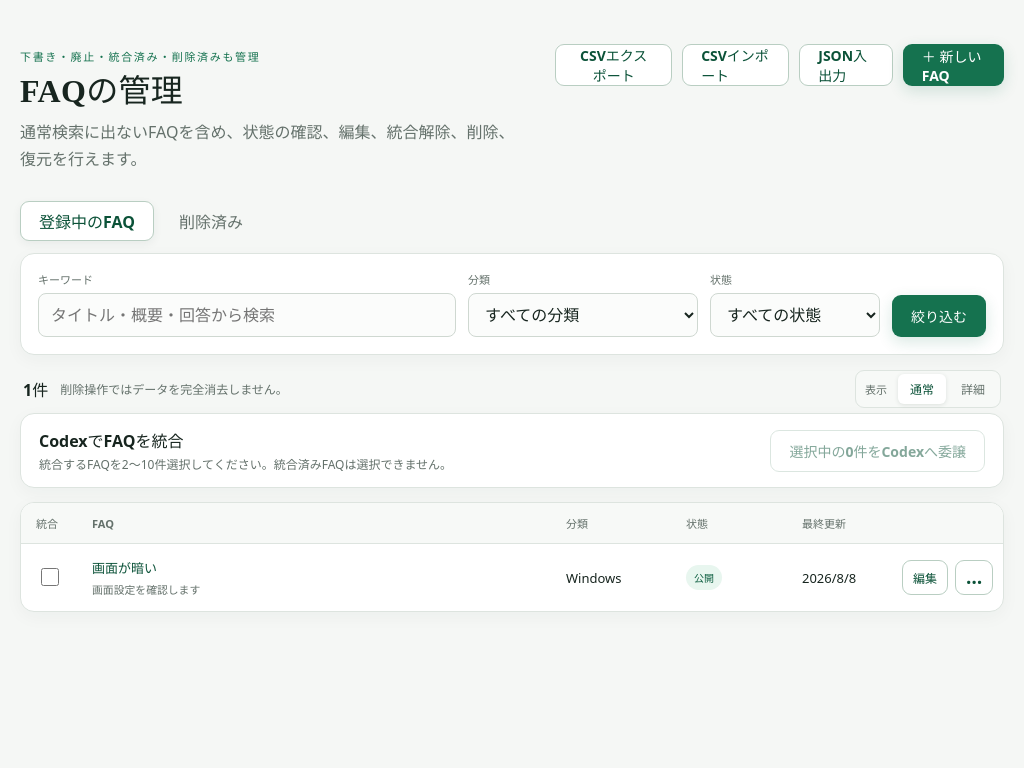
Scenario: ArticleManagementPage › moves an active FAQ to deleted items after confirmation
This screenshot has width=1024, height=768.
Expected: the link "画面が暗い" is shown, [92,559,157,577]
Click the button "詳細" at (973, 389), box [949,374,997,404]
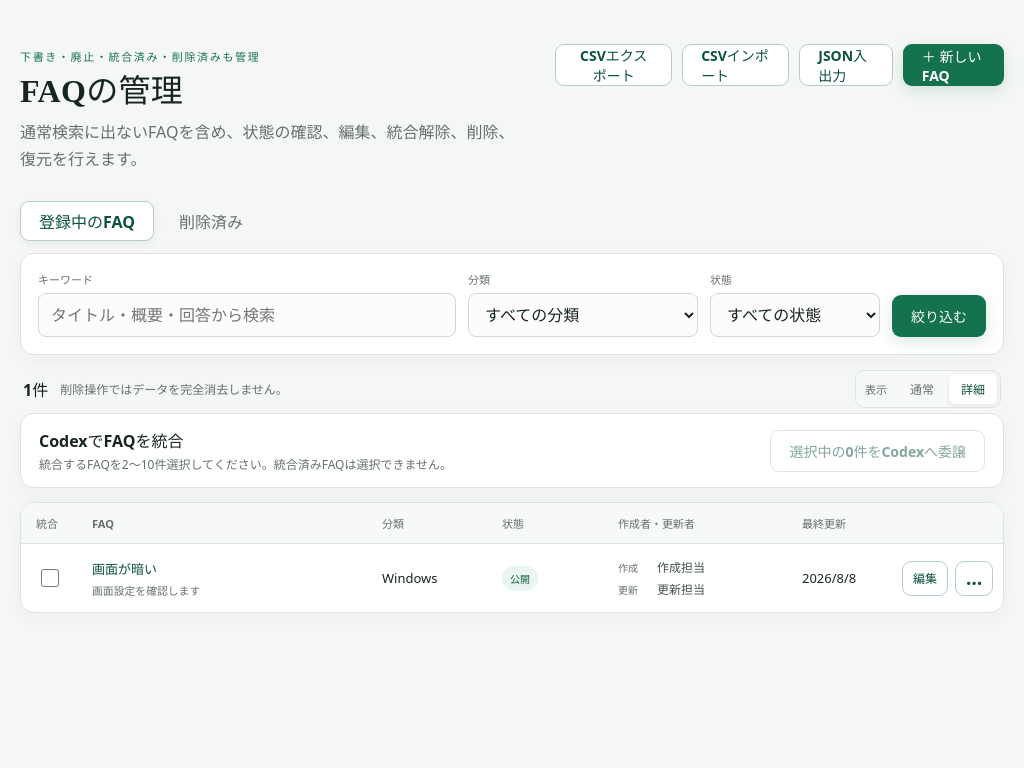
Now the element titled "作成担当" is shown, box [618,559,705,576]
Now the element titled "更新担当" is shown, box [618,581,705,598]
Now the column heading "作成者・更新者" is shown, box [603,503,787,544]
Click the button named "「画面が暗い」のその他の操作" at (974, 578), box [955,561,993,596]
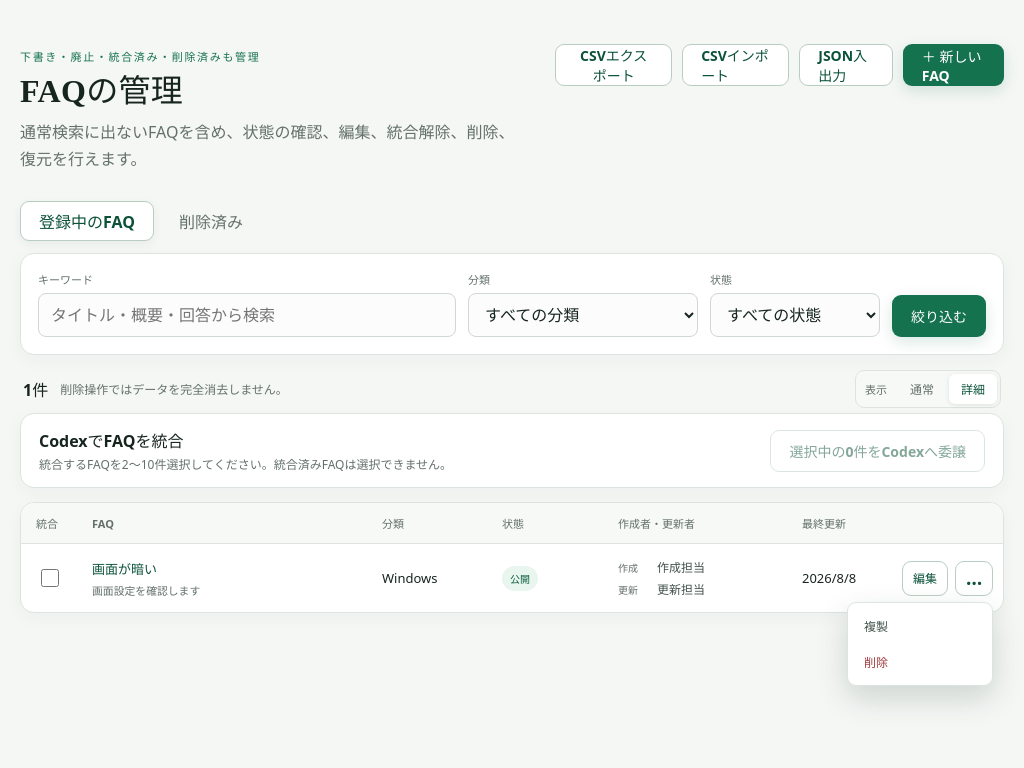
Click the menu item "削除" at (920, 662), box [853,644,987,680]
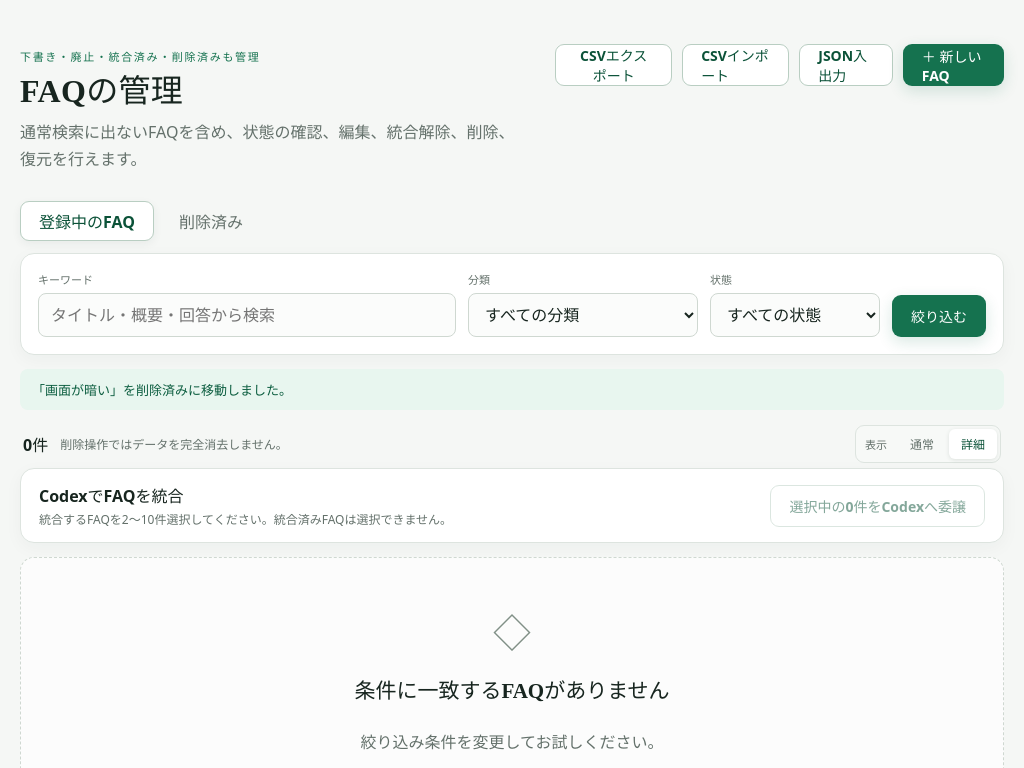
Now the text "「画面が暗い」を削除済みに移動しました。" is shown, box [20,369,1004,410]
